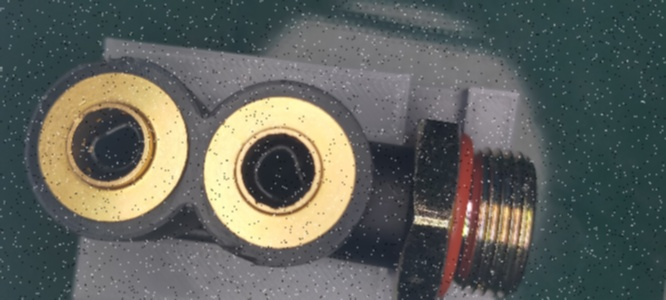bump: (215, 239, 267, 265)
off-centered: (247, 144, 314, 202), (79, 121, 149, 175)
white mark: (388, 181, 405, 195)
